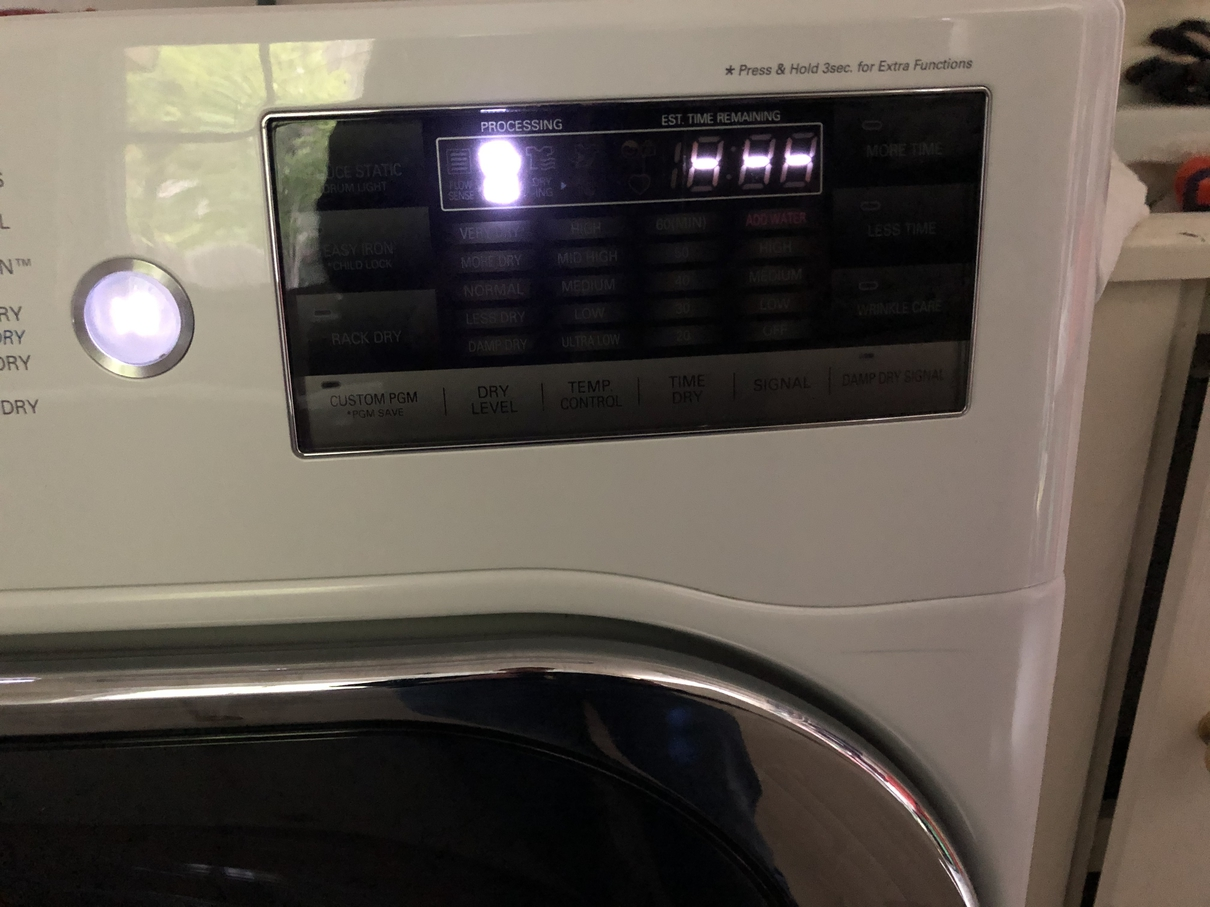status: (411, 87, 845, 220)
